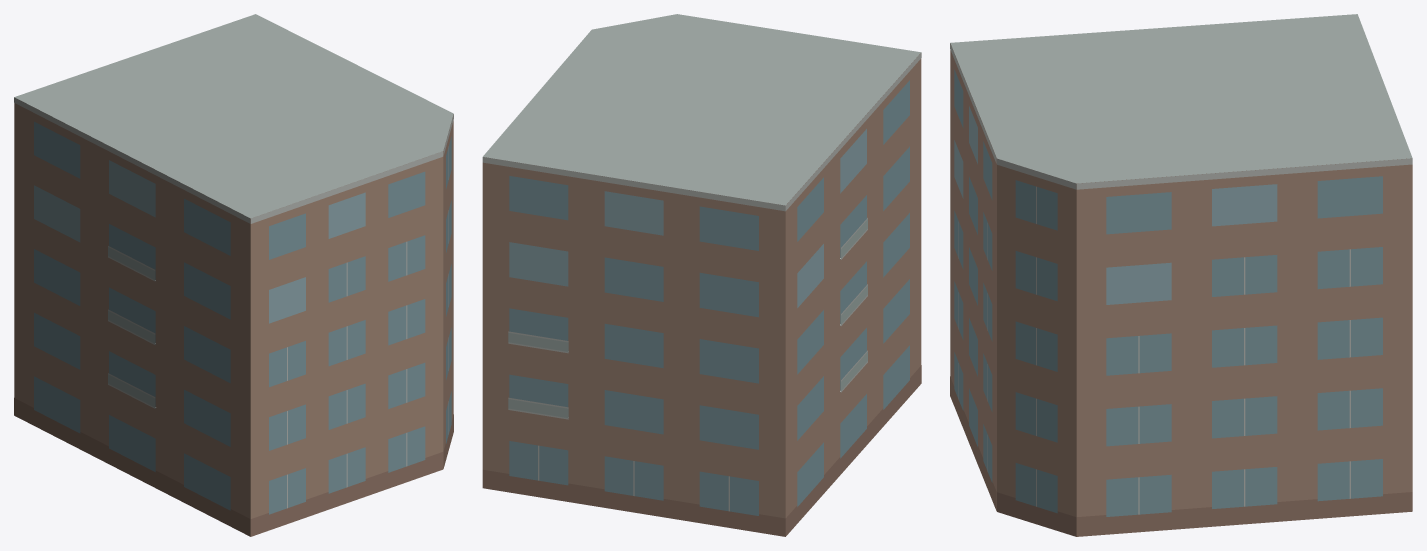
The model's file is survey-upis-32769906.glb.
3 views of the same model, side by side, from view 1: azimuth 30°, elevation 25°; view 2: azimuth 150°, elevation 25°; view 3: azimuth 270°, elevation 25° (orthographic). The views are drawn at different scales.
Parts seen in each view (by area): view 1: survey-upis-32769906.tmp; view 2: survey-upis-32769906.tmp; view 3: survey-upis-32769906.tmp.
Boxes of the visible parts, <box> form: survey-upis-32769906.tmp: <box>14,14,453,536</box>; survey-upis-32769906.tmp: <box>482,14,921,536</box>; survey-upis-32769906.tmp: <box>950,14,1412,536</box>.
Size of the model in its own units: 14.32 by 13.91 by 16.51.
